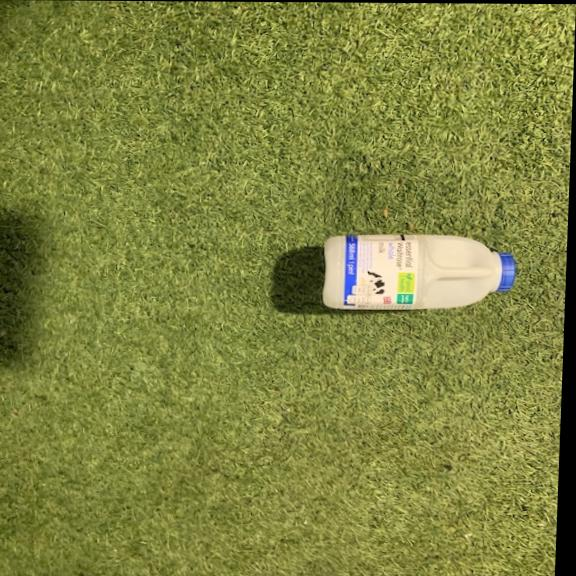Plastik: (313, 232, 519, 312)
